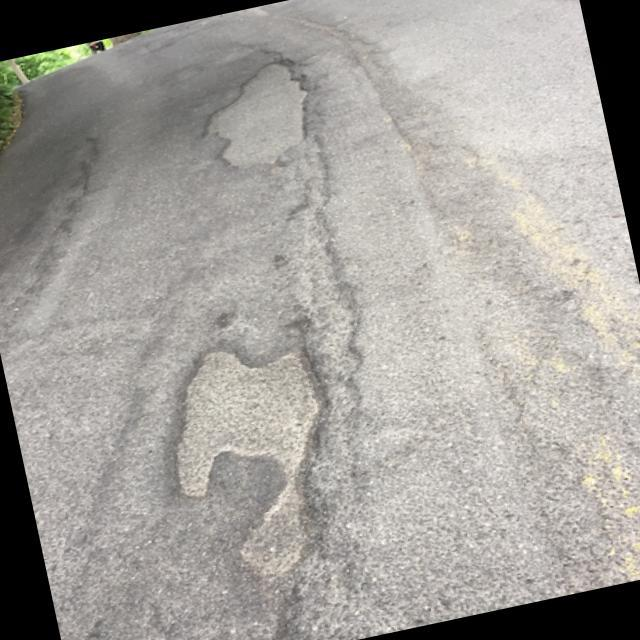Pothole: (120, 316, 368, 602), (182, 44, 344, 182)
